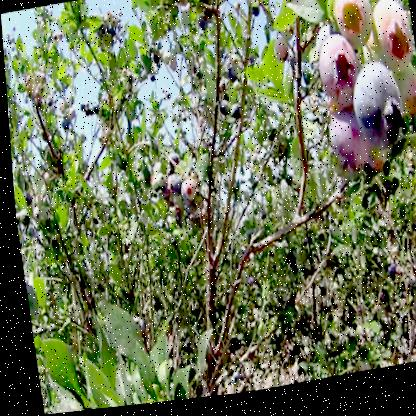intermediate: (312, 43, 358, 113), (325, 117, 363, 176)
mature: (351, 70, 403, 160), (165, 177, 181, 203), (45, 97, 54, 111)
young: (367, 4, 416, 77), (331, 1, 376, 55), (392, 69, 416, 122), (180, 179, 195, 209), (149, 173, 164, 197), (39, 60, 47, 92), (25, 74, 35, 94)
